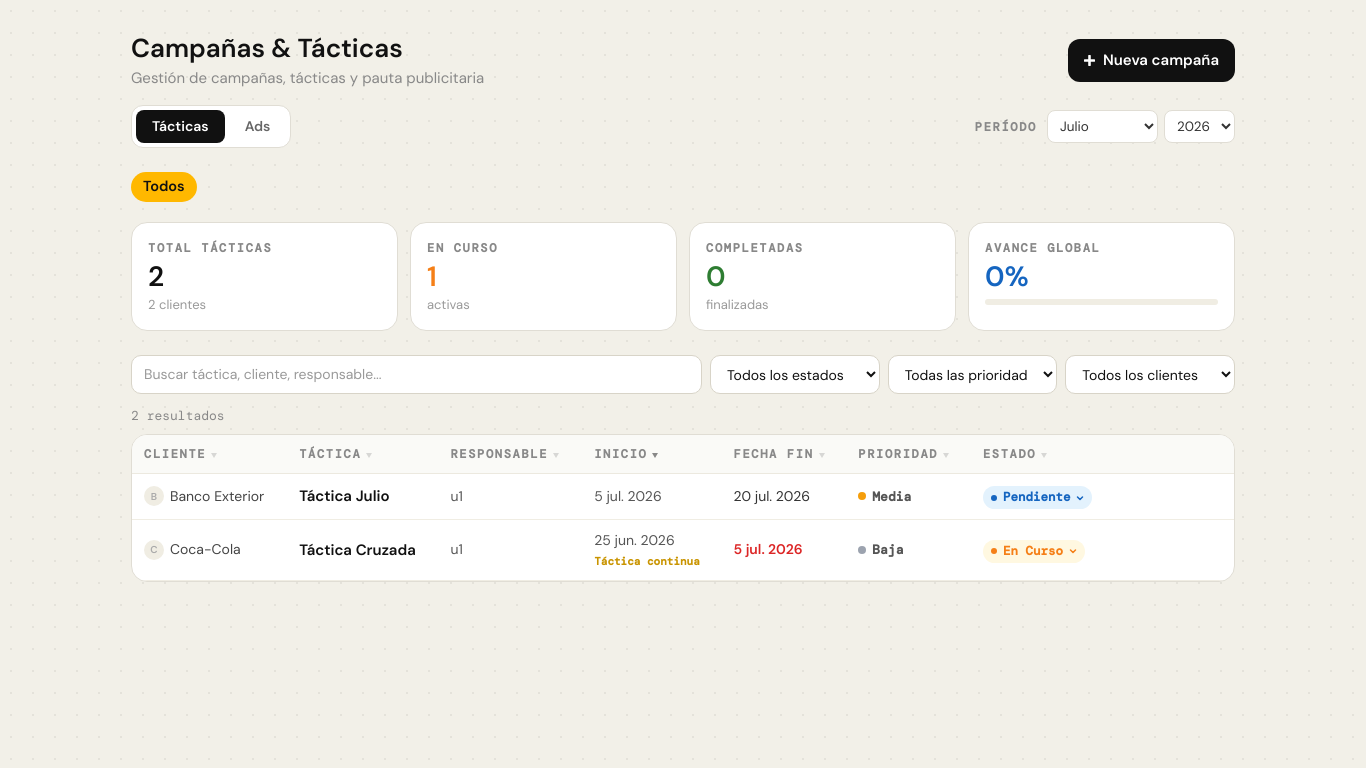
Test: AdsPage — tabs Tácticas/Ads › cards de resumen (Tácticas) › clic en "Total tácticas" resetea los filtros
Expected: the text "Táctica Julio" is shown, x1=299 y1=486 x2=390 y2=506
Type "Cruzada" into the field with placeholder "Buscar táctica, cliente, responsable...".
click(416, 375); type("Cruzada")  # box x1=131 y1=355 x2=702 y2=394
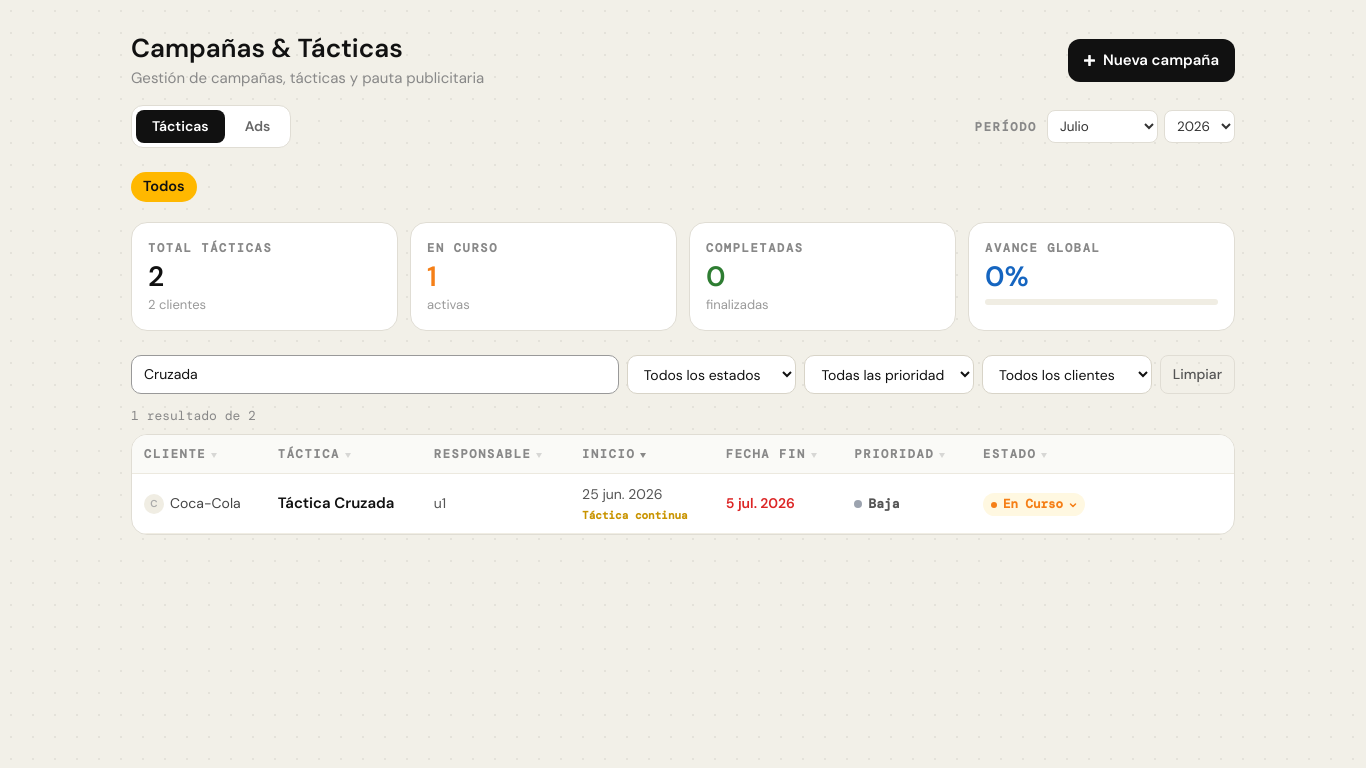
Expected: the text "Táctica Julio" is gone
Click the text "Total tácticas".
click(210, 248)  # box x1=148 y1=240 x2=272 y2=256
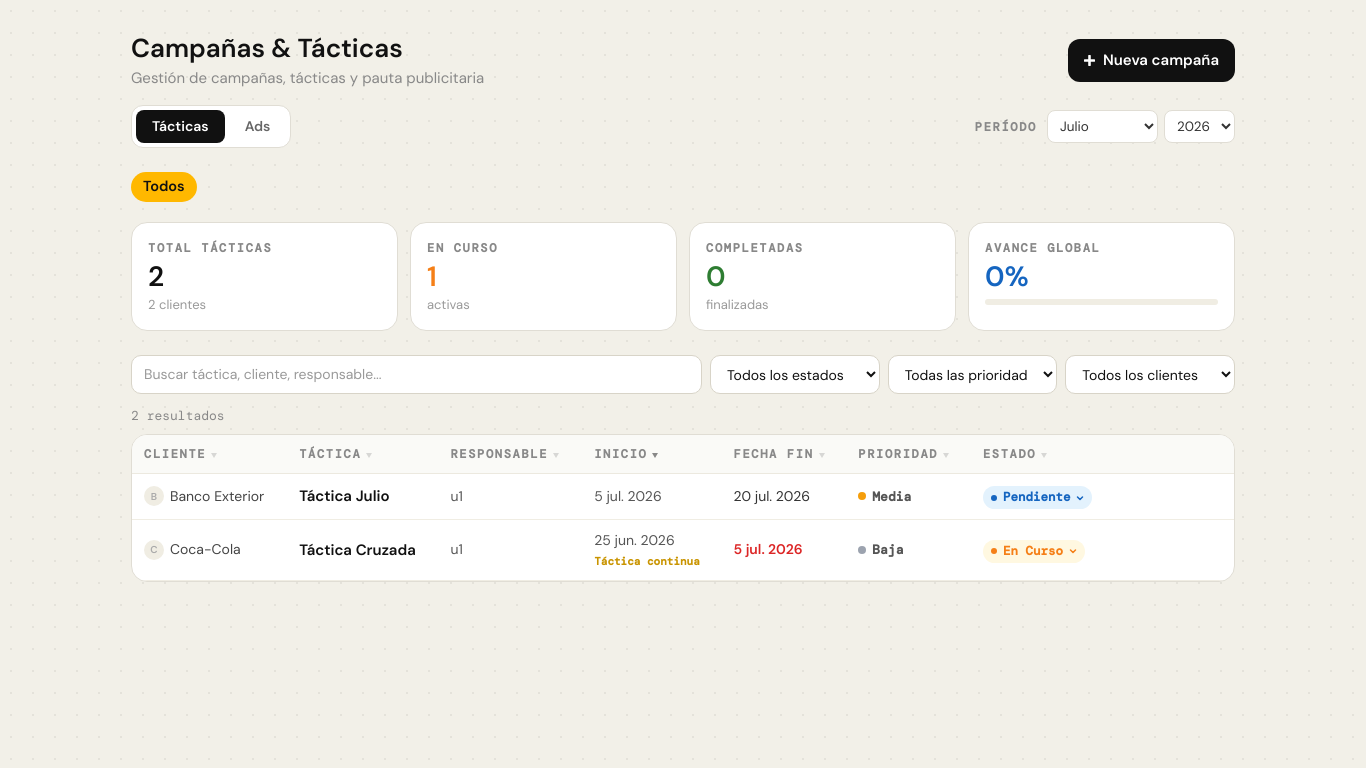
Expected: the text "Táctica Julio" is shown, x1=299 y1=486 x2=390 y2=506
